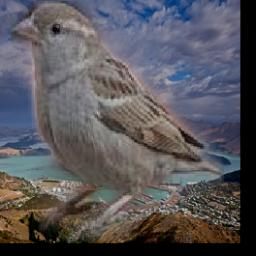Sparrow: (11, 2, 224, 242)
